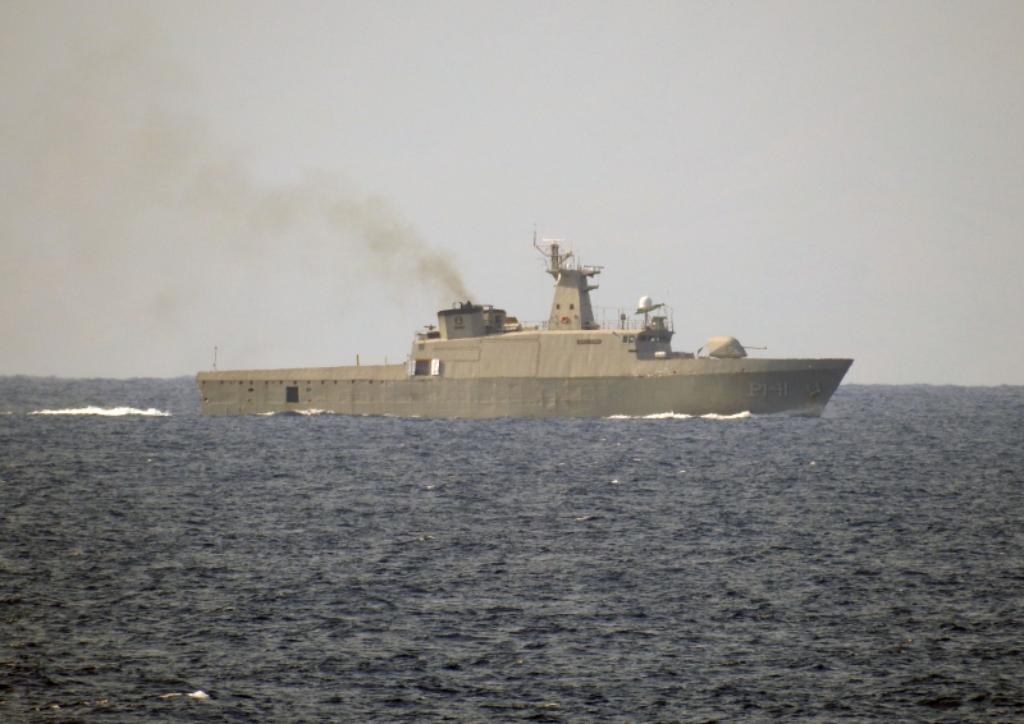Warship: (194, 222, 854, 420)
